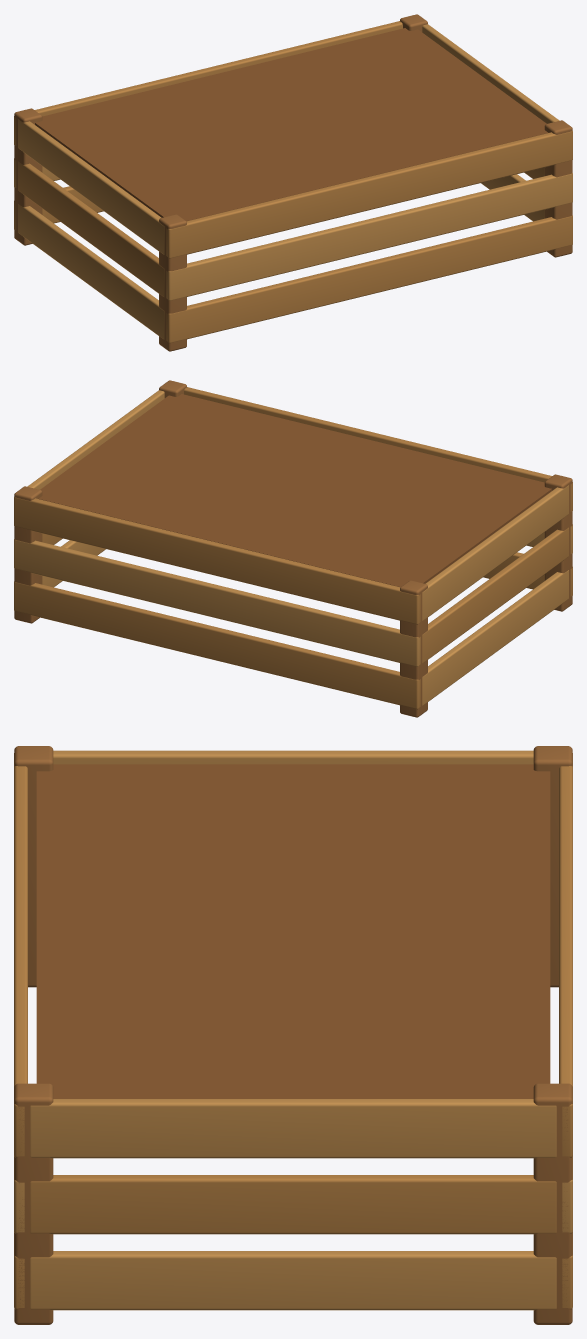
The model's file is crate.glb.
The picture shows the model from 3 angles, top to bottom: view 1: azimuth 30°, elevation 25°; view 2: azimuth 150°, elevation 25°; view 3: azimuth 270°, elevation 25°; orthographic projection. The views are drawn at different scales.
Visible parts, largest first — view 1: floor, slx10, slx00, slx20, sly20, sly10, sly00, slx21, sly21, corner0, corner1, corner2 (+2 smaller); view 2: floor, slx11, slx01, slx21, sly20, sly10, sly00, slx20, sly21, corner2, corner3, corner0 (+2 smaller); view 3: floor, sly01, sly11, sly21, sly20, slx20, slx21, corner1, corner3, corner0, corner2.
Part boxes in pixels (x1,y1,x2,y2): floor: [35, 28, 548, 221]; slx10: [166, 173, 572, 300]; slx00: [166, 215, 572, 343]; slx20: [166, 130, 572, 258]; sly20: [18, 119, 164, 254]; sly10: [18, 161, 164, 297]; sly00: [18, 204, 164, 339]; slx21: [14, 21, 402, 145]; sly21: [422, 24, 559, 123]; corner0: [159, 214, 186, 351]; corner1: [544, 120, 572, 257]; corner2: [14, 108, 42, 245]; floor: [38, 394, 551, 587]; slx11: [14, 539, 420, 666]; slx01: [14, 581, 420, 709]; slx21: [14, 496, 420, 624]; sly20: [422, 485, 568, 620]; sly10: [422, 527, 568, 663]; sly00: [422, 570, 568, 705]; slx20: [184, 387, 572, 511]; sly21: [27, 390, 164, 489]; corner2: [400, 580, 427, 717]; corner3: [14, 486, 42, 623]; corner0: [544, 474, 572, 611]; floor: [36, 764, 550, 1098]; sly01: [30, 1251, 556, 1310]; sly11: [30, 1175, 556, 1234]; sly21: [30, 1099, 556, 1158]; sly20: [53, 750, 533, 764]; slx20: [14, 753, 27, 1157]; slx21: [559, 753, 572, 1157]; corner1: [14, 1083, 53, 1324]; corner3: [533, 1083, 572, 1324]; corner0: [14, 746, 53, 987]; corner2: [533, 746, 572, 987].
Size of the model in its own units: 1.5 by 0.45 by 1.
